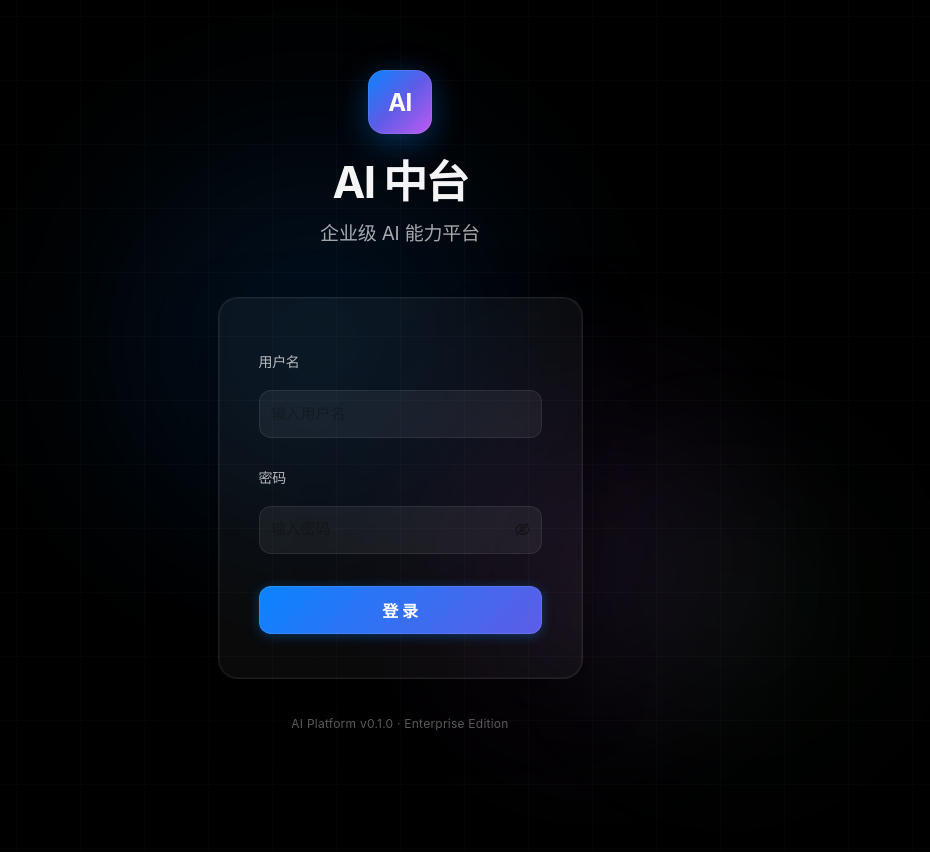
Test: LoginPage › shows validation error when submitting empty form
The image size is (930, 852).
Step 1. Click the button "登 录" → [400, 610], box [258,586,542,634]
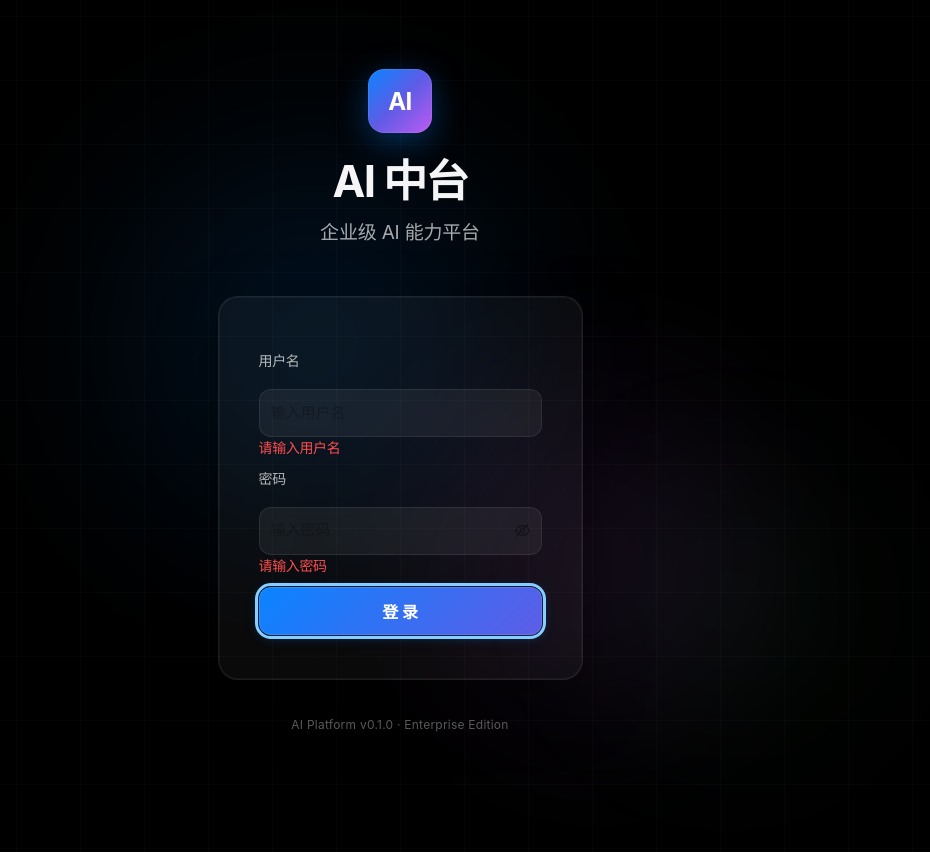
Expected: the text "请输入用户名" is shown, [258,439,340,456]
